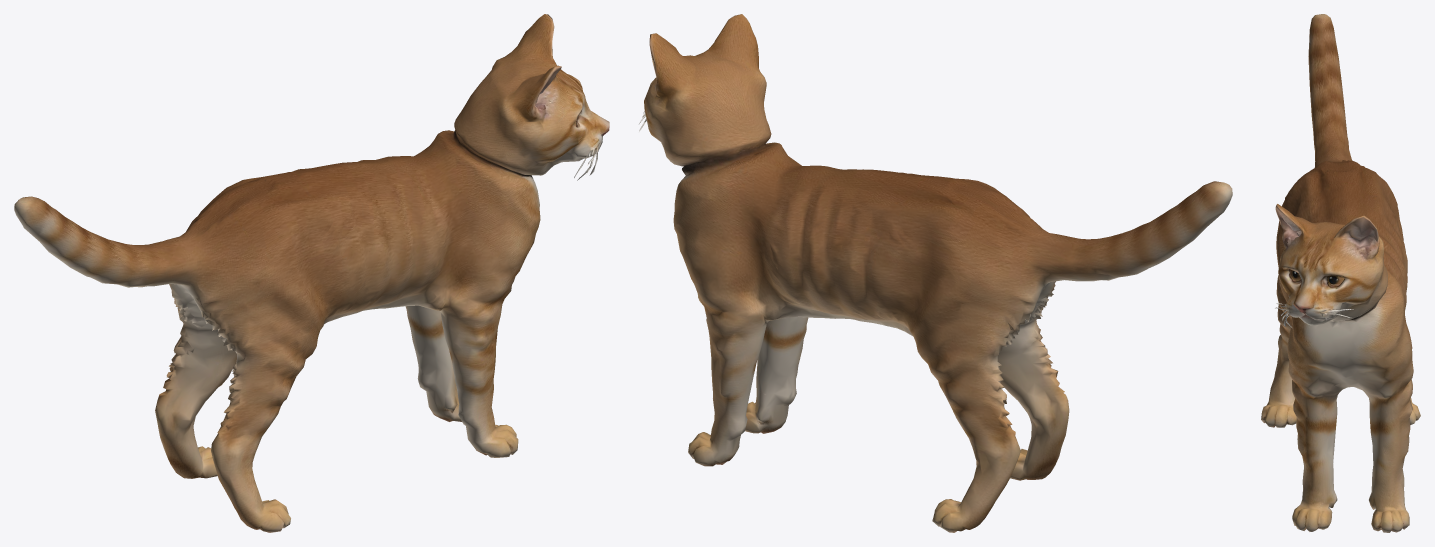
File: SAYHIBOB.glb
3 renders of one model, left to right at view 1: azimuth 30°, elevation 25°; view 2: azimuth 150°, elevation 25°; view 3: azimuth 270°, elevation 25°, orthographic. The views are drawn at different scales.
Visible parts, largest first — view 1: tripo_node_c46a80b2-0de2-4e6f-865c-b087d1d562f5; view 2: tripo_node_c46a80b2-0de2-4e6f-865c-b087d1d562f5; view 3: tripo_node_c46a80b2-0de2-4e6f-865c-b087d1d562f5.
Part boxes in pixels (left/top/right/bottom): tripo_node_c46a80b2-0de2-4e6f-865c-b087d1d562f5: left=14, top=14, right=609, bottom=532; tripo_node_c46a80b2-0de2-4e6f-865c-b087d1d562f5: left=639, top=14, right=1232, bottom=532; tripo_node_c46a80b2-0de2-4e6f-865c-b087d1d562f5: left=1261, top=14, right=1420, bottom=532.
Size of the model in its own units: 1.54 by 1 by 0.4203.
1 material, 1 textured.
